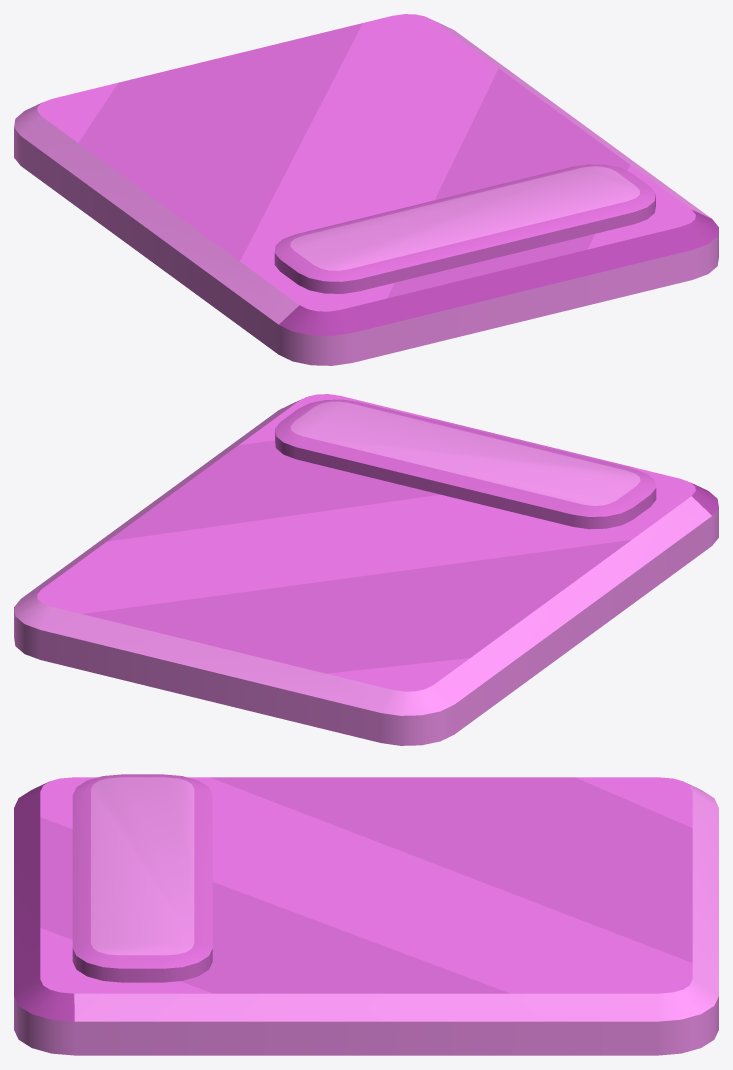
Rendered from Merge-5LvL.fbx.
3 views of the same model, one above another, from view 1: azimuth 30°, elevation 25°; view 2: azimuth 150°, elevation 25°; view 3: azimuth 270°, elevation 25° (orthographic). The views are drawn at different scales.
Visible parts, largest first — view 1: Plane.010; view 2: Plane.010; view 3: Plane.010.
Part boxes in pixels (x1,y1,x2,y2): Plane.010: (14,14,718,365); Plane.010: (14,394,718,745); Plane.010: (14,774,718,1055).
Bounding box in the file's own units: 763 × 103 × 950.
